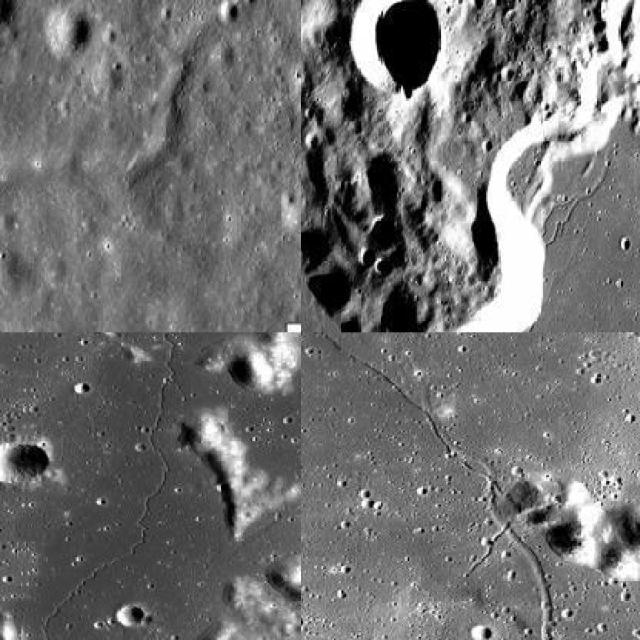rille: (300, 332, 638, 638), (0, 6, 237, 299), (40, 332, 182, 638), (560, 158, 615, 238), (538, 191, 577, 238), (546, 220, 562, 246)
